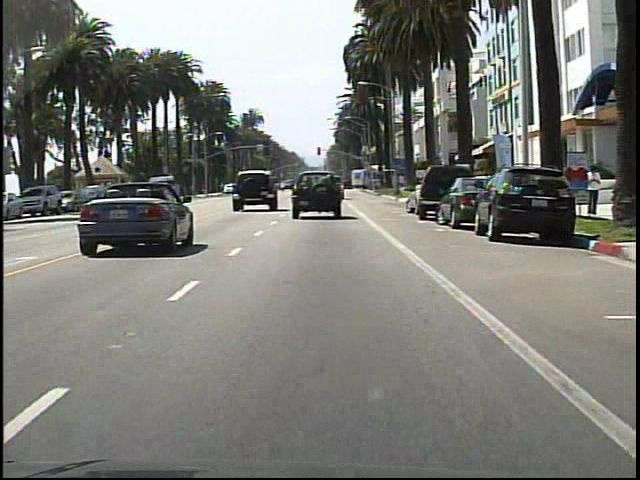person: (584, 164, 602, 218)
